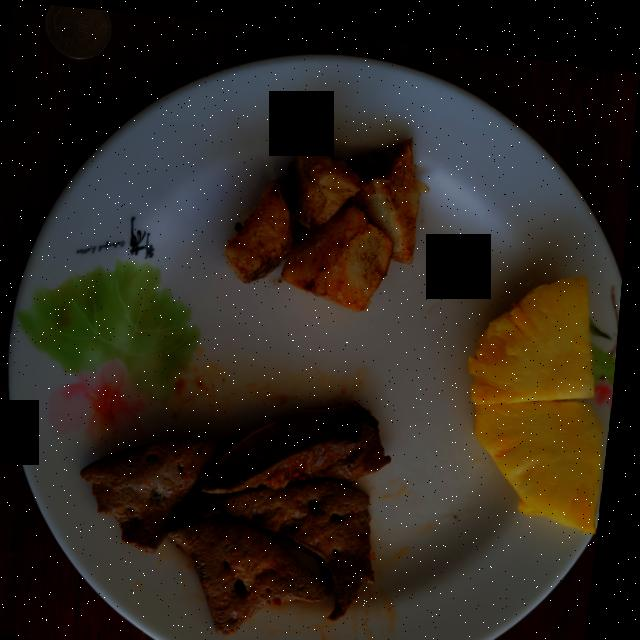coin: (44, 4, 112, 58)
fried potato: (227, 131, 429, 302)
pig liver: (89, 393, 397, 629)
pineapple: (474, 263, 609, 521)
